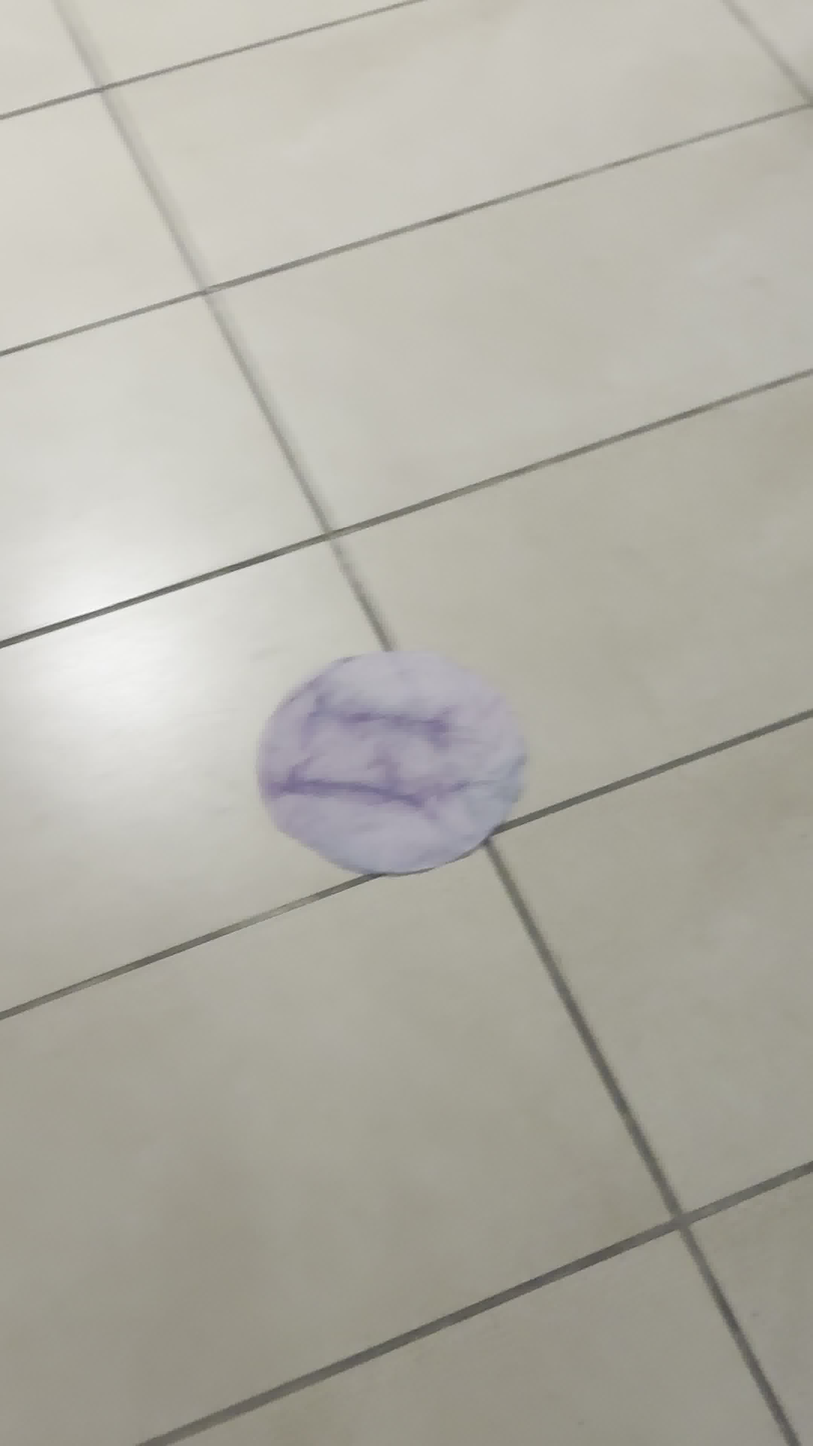Target: (255, 650, 532, 874)
